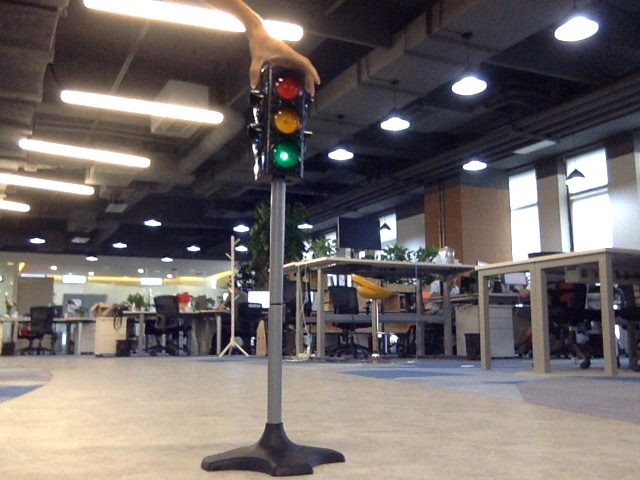green: (265, 75, 300, 171)
